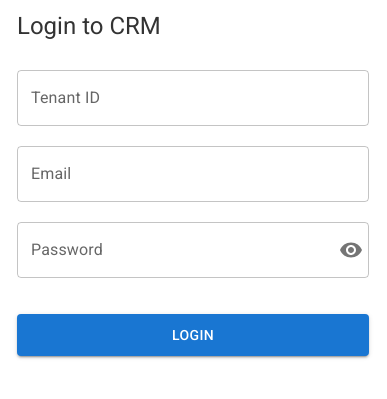
Scenario: LoginForm Component › Form Validation › should validate email format
The width and height of the screenshot is (387, 399).
Type "invalid-email" into the field labelled "Email".
click(193, 174); type("invalid-email")  # box [17, 146, 369, 202]
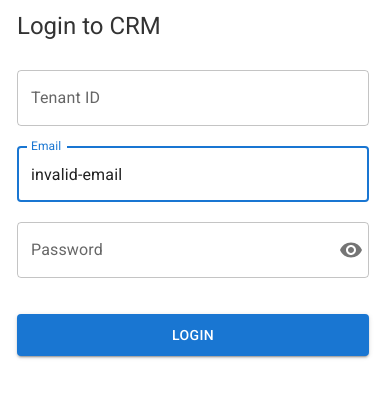
Press Tab
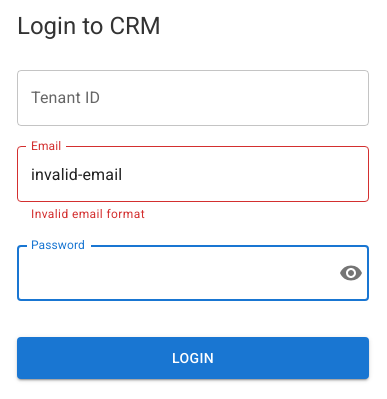
Result: the text "Invalid email format" is shown at [31, 207, 145, 221]
